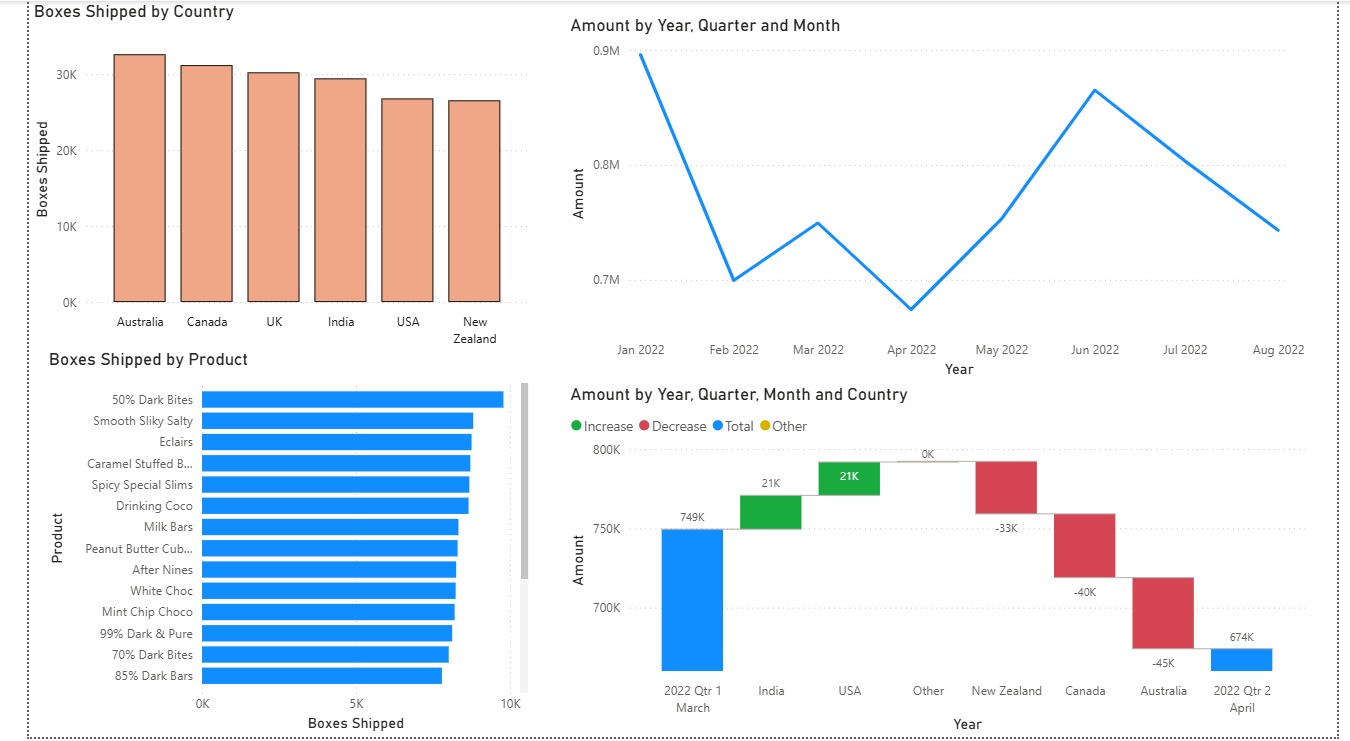

This screenshot's page, from the dashboard's own definition file:
{"tool":"powerbi","page":{"name":"Page 1","canvas":[1280,720],"ordinal":0},"visuals":[{"type":"columnChart","fields":{"Category":["data.Country"],"Y":["Sum(data.Boxes Shipped)"]},"box":[0,0,494,359.5],"z":0},{"type":"barChart","fields":{"Category":["data.Product"],"Y":["Sum(data.Boxes Shipped)"]},"box":[15.1,340.3,478.9,380.1],"z":1},{"type":"lineChart","fields":{"Category":["data.Date.Variation.Date Hierarchy.Year","data.Date.Variation.Date Hierarchy.Quarter","data.Date.Variation.Date Hierarchy.Month","data.Date.Variation.Date Hierarchy.Day"],"Y":["Sum(data.Amount)"]},"box":[524.2,13.7,728.6,359.5],"z":2},{"type":"waterfallChart","fields":{"Category":["data.Date.Variation.Date Hierarchy.Year","data.Date.Variation.Date Hierarchy.Quarter","data.Date.Variation.Date Hierarchy.Month"],"Breakdown":["data.Country"],"Y":["Sum(data.Amount)"]},"box":[524,374,729,346],"z":3}]}

Visuals, with their boxes in screenshot pixels (x1, y1, x2, y2), scaled from the page's 1280x720 canvas onto the 1350x741 screenshot:
columnChart - data.Country x Sum(data.Boxes Shipped): <bbox>0, 0, 521, 370</bbox>
barChart - data.Product x Sum(data.Boxes Shipped): <bbox>16, 350, 521, 740</bbox>
lineChart - data.Date.Variation.Date Hierarchy.Year x data.Date.Variation.Date Hierarchy.Quarter: <bbox>553, 14, 1321, 384</bbox>
waterfallChart - data.Date.Variation.Date Hierarchy.Year x data.Date.Variation.Date Hierarchy.Quarter: <bbox>553, 385, 1322, 740</bbox>
